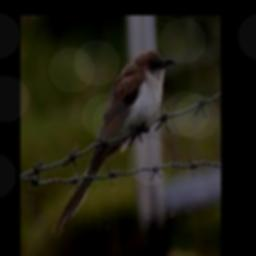Cuckoo: (51, 50, 174, 233)
